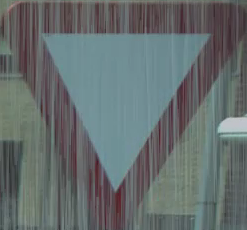Give way: (7, 6, 232, 211)
